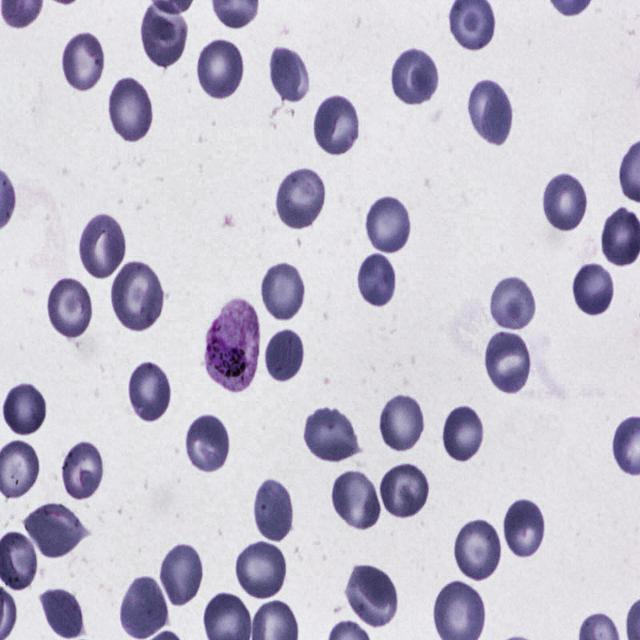difficult: (201, 294, 260, 393)
red blood cell: (107, 258, 167, 332), (24, 500, 90, 556), (482, 328, 535, 396), (233, 538, 290, 601), (303, 404, 361, 465), (272, 167, 326, 232), (139, 2, 189, 72), (346, 564, 398, 630), (118, 575, 171, 639), (452, 516, 503, 582), (108, 73, 154, 146), (194, 36, 244, 103), (466, 76, 513, 147), (331, 468, 382, 533), (251, 473, 295, 548), (158, 540, 204, 610), (79, 211, 125, 280), (390, 43, 440, 106), (364, 191, 413, 255), (312, 94, 360, 159), (46, 276, 93, 342), (541, 170, 589, 234), (60, 28, 107, 92), (184, 413, 233, 474), (379, 462, 430, 520), (260, 259, 307, 321), (62, 437, 108, 500), (503, 496, 548, 560), (378, 392, 425, 453), (127, 361, 172, 424), (0, 382, 50, 436), (38, 584, 86, 640), (490, 274, 536, 331), (268, 43, 310, 105), (442, 403, 486, 462), (572, 262, 616, 316), (356, 252, 397, 308), (264, 329, 304, 381)
